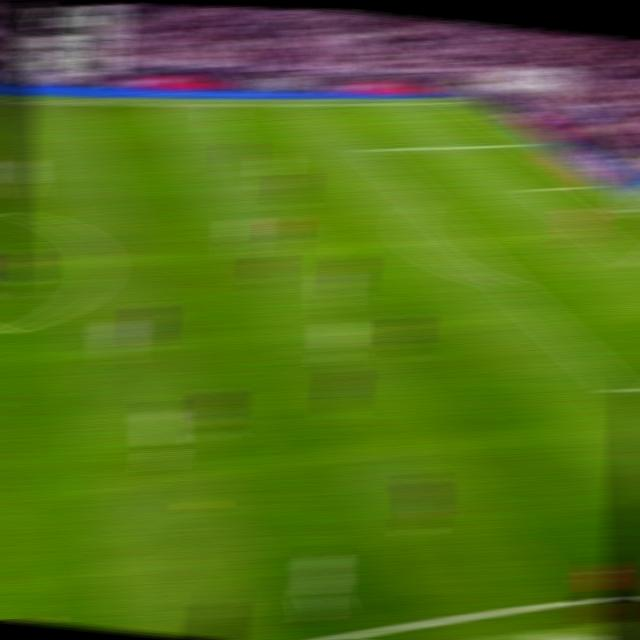bigarea_bottom_inner: (606, 376, 635, 402)
bigarea_top_inner: (358, 141, 382, 157)
bottom_arc_area_intersection: (496, 273, 520, 293)
corner: (451, 96, 477, 107)
smallarea_top_inner: (524, 182, 548, 194)
top_arc_area_intersection: (412, 193, 436, 209)
